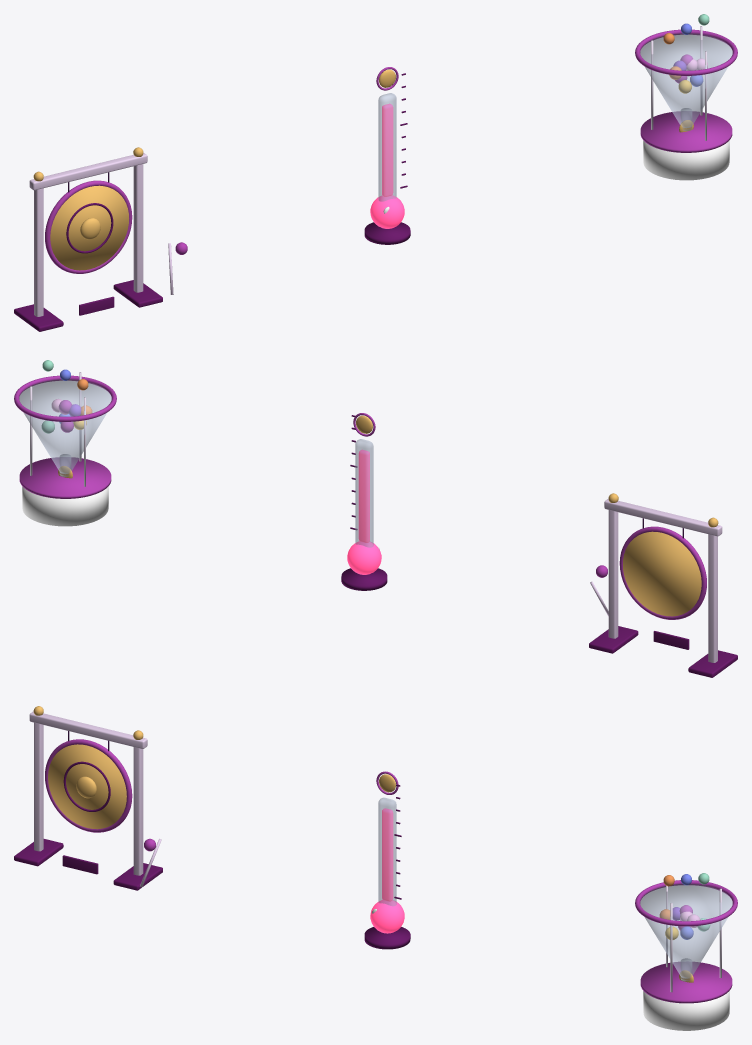
File: sales_a.glb
3 views of the same model, one above another, from view 1: azimuth 30°, elevation 25°; view 2: azimuth 150°, elevation 25°; view 3: azimuth 330°, elevation 25° (orthographic).
Parts seen in each view (by area): view 1: Funnel, GongDisc, PlinthCap, Plinth, Tube, Post.001, Beam, GongRim, Post, FunnelRim, Fill, Bulb (+3 smaller); view 2: GongDisc, Funnel, PlinthCap, Plinth, Tube, Post.001, Beam, GongRim, Post, FunnelRim, Fill, Bulb (+3 smaller); view 3: Funnel, GongDisc, PlinthCap, Plinth, Tube, Post.001, Beam, GongRim, Post, FunnelRim, Fill, Bulb (+3 smaller).
Part boxes in pixels (bbox=[...]): Funnel: bbox=[640, 33, 732, 127]; GongDisc: bbox=[50, 185, 128, 270]; PlinthCap: bbox=[640, 111, 732, 152]; Plinth: bbox=[643, 140, 729, 180]; Tube: bbox=[378, 93, 396, 201]; Post.001: bbox=[133, 164, 143, 292]; Beam: bbox=[29, 152, 147, 190]; GongRim: bbox=[45, 180, 132, 273]; Post: bbox=[34, 188, 43, 316]; FunnelRim: bbox=[635, 29, 737, 75]; Fill: bbox=[382, 103, 393, 196]; Bulb: bbox=[370, 195, 404, 228]; GongDisc: bbox=[623, 531, 701, 616]; Funnel: bbox=[19, 379, 111, 473]; PlinthCap: bbox=[19, 457, 111, 498]; Plinth: bbox=[22, 486, 108, 526]; Tube: bbox=[355, 439, 373, 547]; Post.001: bbox=[608, 510, 618, 638]; Beam: bbox=[604, 498, 722, 536]; GongRim: bbox=[619, 526, 706, 619]; Post: bbox=[708, 534, 717, 662]; FunnelRim: bbox=[14, 375, 116, 421]; Fill: bbox=[358, 449, 369, 542]; Bulb: bbox=[347, 541, 381, 574]; Funnel: bbox=[640, 884, 732, 978]; GongDisc: bbox=[48, 744, 126, 829]; PlinthCap: bbox=[640, 962, 732, 1003]; Plinth: bbox=[643, 991, 729, 1030]; Tube: bbox=[378, 797, 396, 905]; Post.001: bbox=[133, 747, 143, 875]; Beam: bbox=[29, 711, 147, 748]; GongRim: bbox=[45, 739, 132, 832]; Post: bbox=[34, 722, 43, 851]; FunnelRim: bbox=[635, 880, 737, 926]; Fill: bbox=[382, 808, 393, 901]; Bulb: bbox=[370, 900, 404, 933].
Size of the model in its own units: 14.15 by 3.22 by 1.79.
